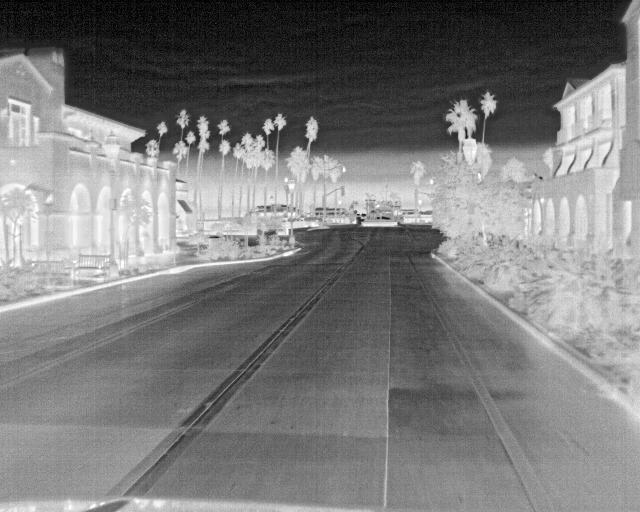light: (341, 186, 345, 195)
sign: (468, 202, 476, 214)
